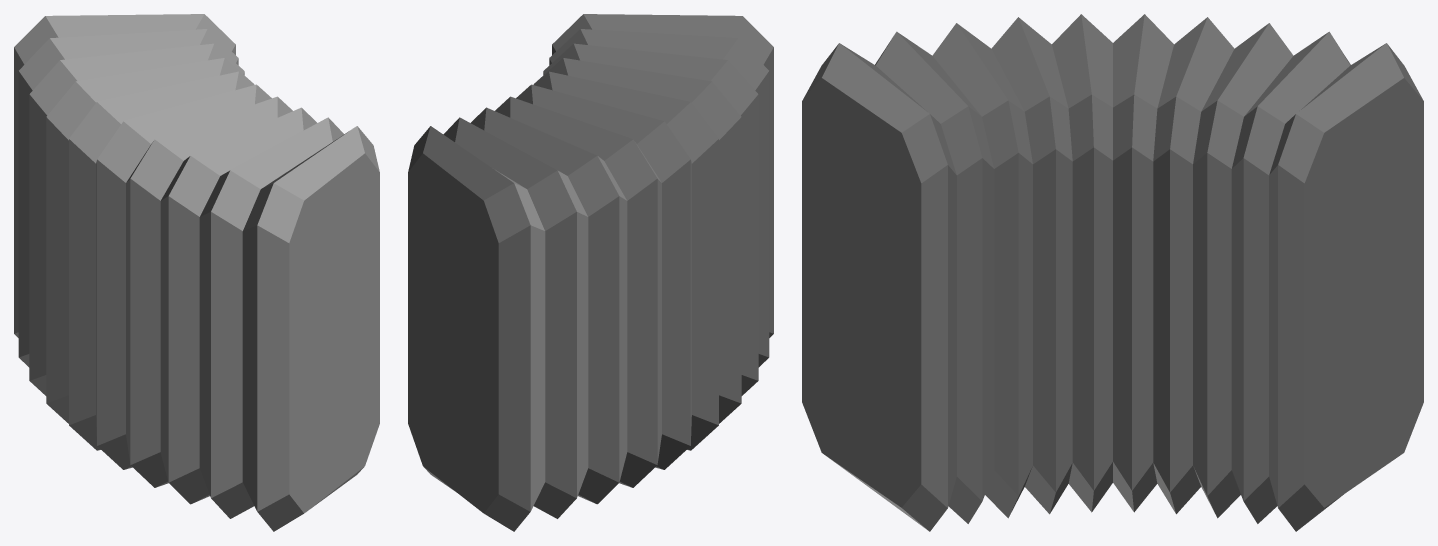
File: passageway_002.fbx
3 views of the same model, side by side, from view 1: azimuth 30°, elevation 25°; view 2: azimuth 150°, elevation 25°; view 3: azimuth 270°, elevation 25° (orthographic). The views are drawn at different scales.
Parts seen in each view (by area): view 1: passageway_002; view 2: passageway_002; view 3: passageway_002.
Part boxes in pixels (x1,y1,x2,y2): passageway_002: (14,14,379,531); passageway_002: (408,14,773,531); passageway_002: (802,14,1423,531).
Bounding box in the file's own units: 199 × 403 × 299.
